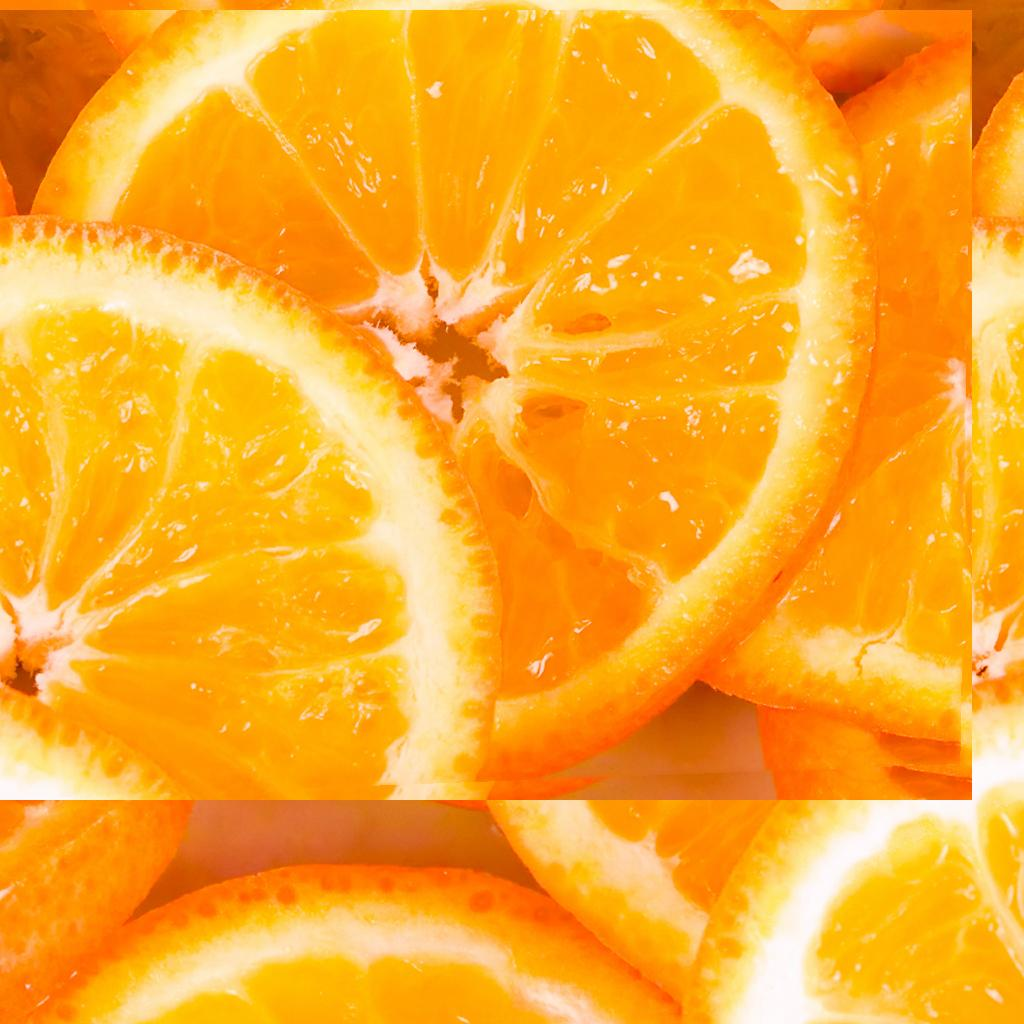Orange Fresh: (0, 10, 972, 800)
